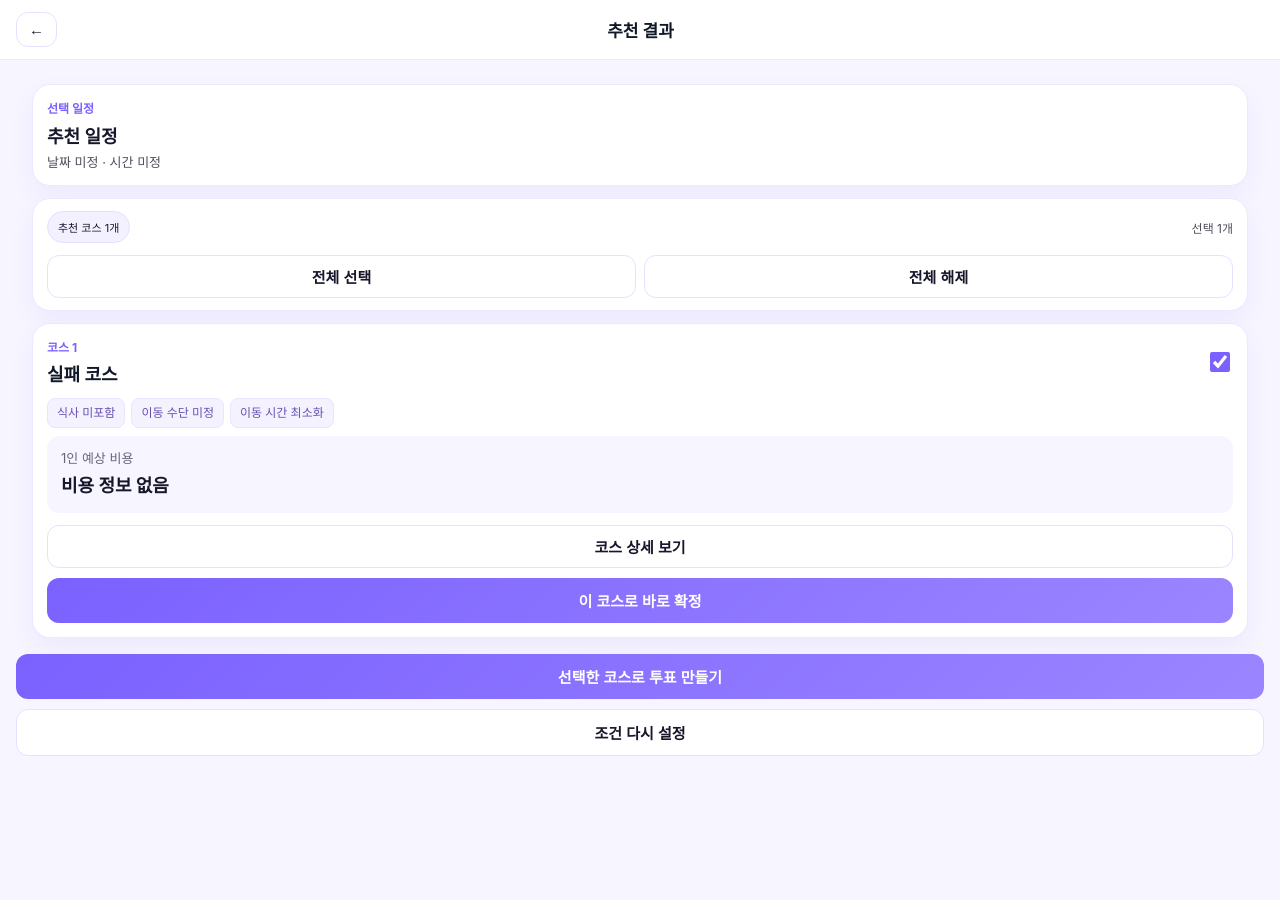
Scenario: 확정 실패를 표시하고 다시 시도할 수 있음
Click the button "이 코스로 바로 확정": (640, 600) [47,578,1233,623]
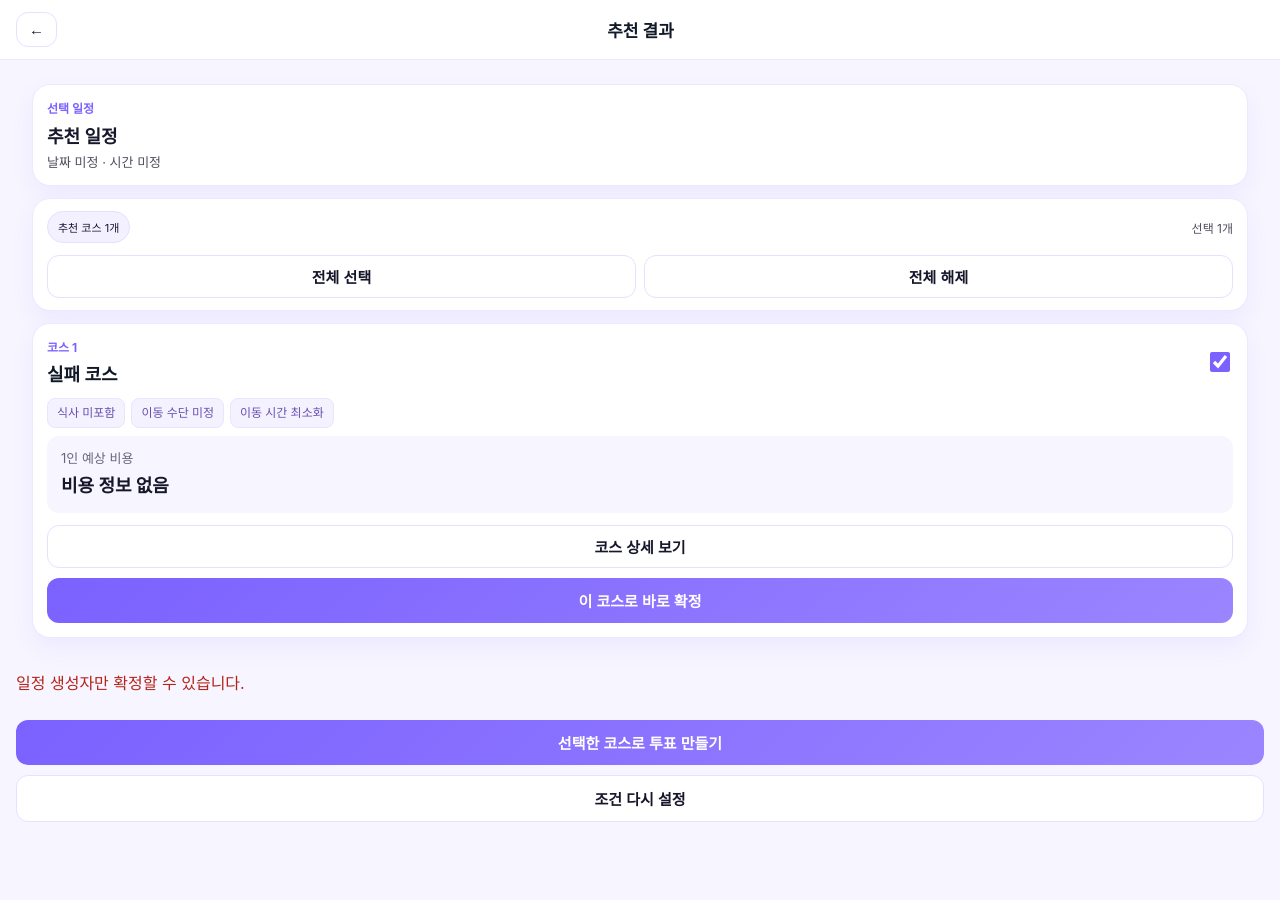
expect the message shows "일정 생성자만": met, box [16,673,245,693]
